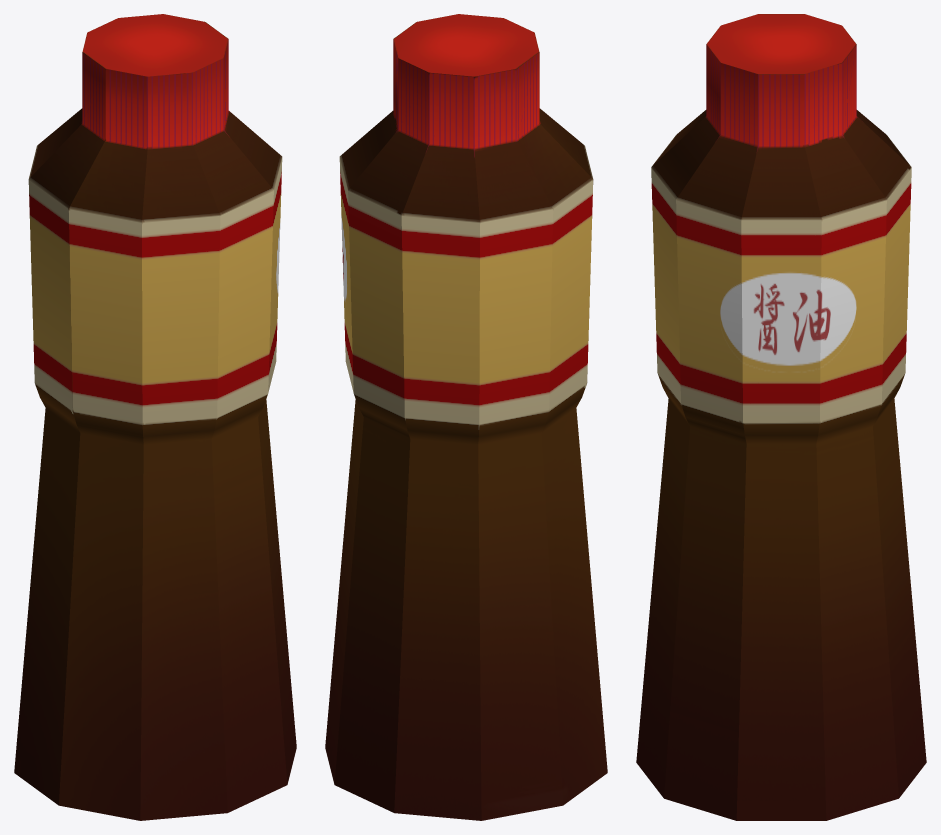
File: syouyu.fbx
3 renders of one model, left to right at view 1: azimuth 30°, elevation 25°; view 2: azimuth 150°, elevation 25°; view 3: azimuth 270°, elevation 25°, orthographic.
Visible parts, largest first — view 1: syouyou; view 2: syouyou; view 3: syouyou.
Boxes of the visible parts, x1=… form: syouyou: x1=14, y1=14, x2=296, y2=820; syouyou: x1=325, y1=14, x2=607, y2=820; syouyou: x1=636, y1=14, x2=926, y2=820.
Bounding box in the file's own units: 5.68 × 16.3 × 5.97.
